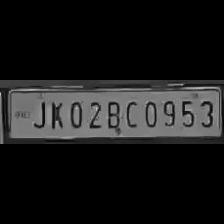0: (65, 97, 85, 128), (141, 98, 159, 128)
2: (84, 98, 102, 130)
3: (196, 96, 214, 128)
5: (177, 96, 195, 128)
9: (160, 96, 176, 128)
B: (103, 98, 121, 130)
C: (123, 97, 139, 128)
J: (30, 98, 46, 130)
K: (46, 98, 66, 130)
